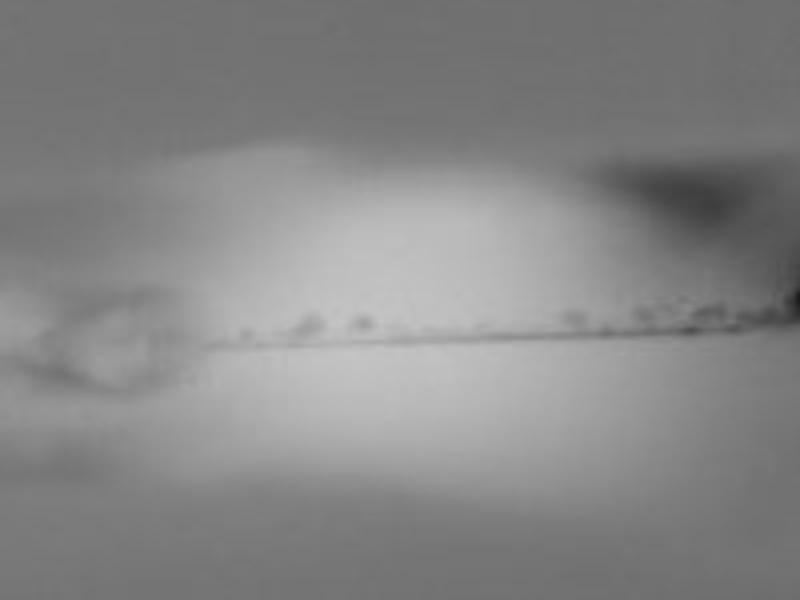defect: (634, 161, 742, 236), (736, 308, 792, 331), (288, 314, 329, 340), (687, 304, 730, 327), (346, 312, 383, 337), (557, 306, 592, 329), (630, 302, 658, 327), (236, 327, 258, 345)
